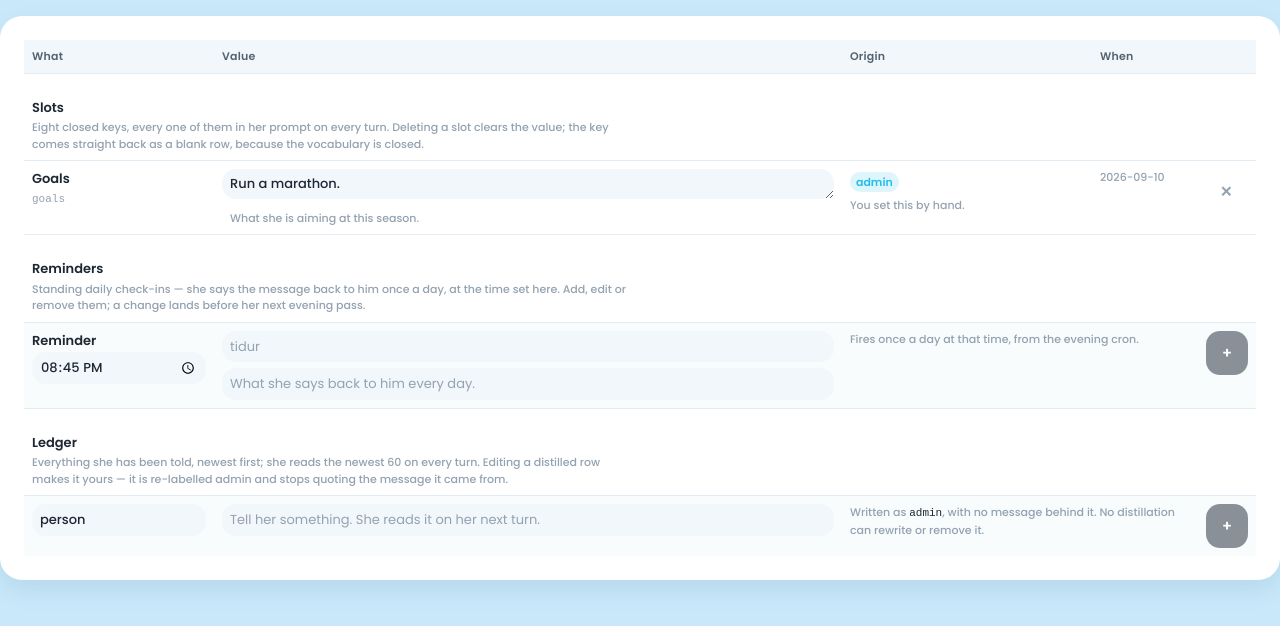
MemoryTable — slot rows › saves the slot on blur and shows the action’s note
The width and height of the screenshot is (1280, 626).
Type "!" into the text box named "Goals value" at (528, 184), box 222,169 -> 834,199
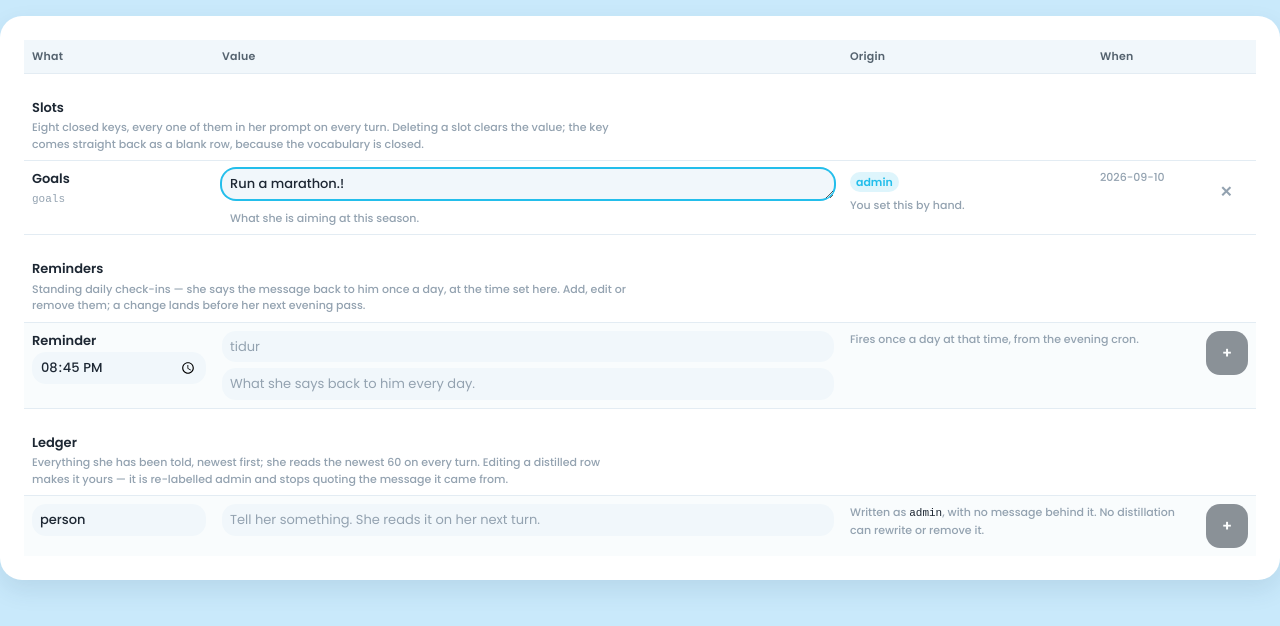
Leave the text box named "Goals value", box 222,169 -> 834,199
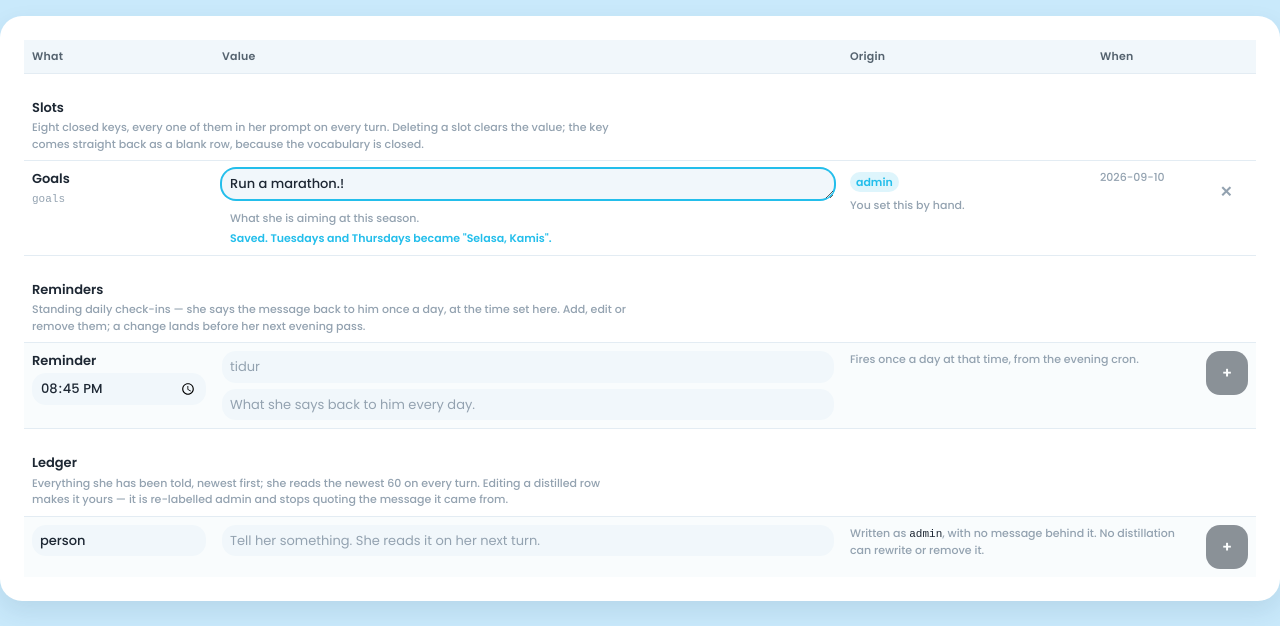
Expected: the text "Saved. Tuesdays and Thursdays became \"Selasa, Kamis\"." is shown, 230,230 -> 552,246
